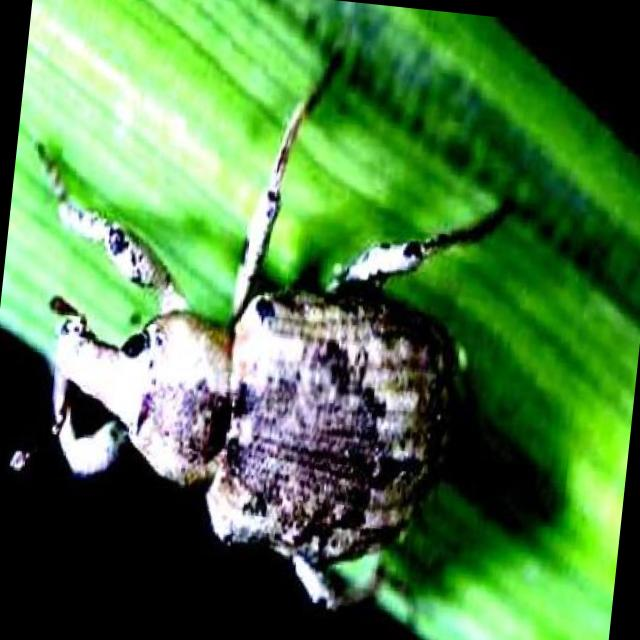rice-bug: (16, 110, 474, 588)
